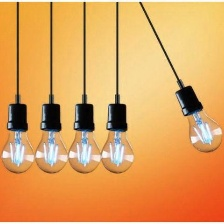light_bulb: (171, 82, 223, 154), (97, 99, 137, 176), (32, 100, 71, 176), (65, 100, 103, 175), (0, 102, 38, 175)
